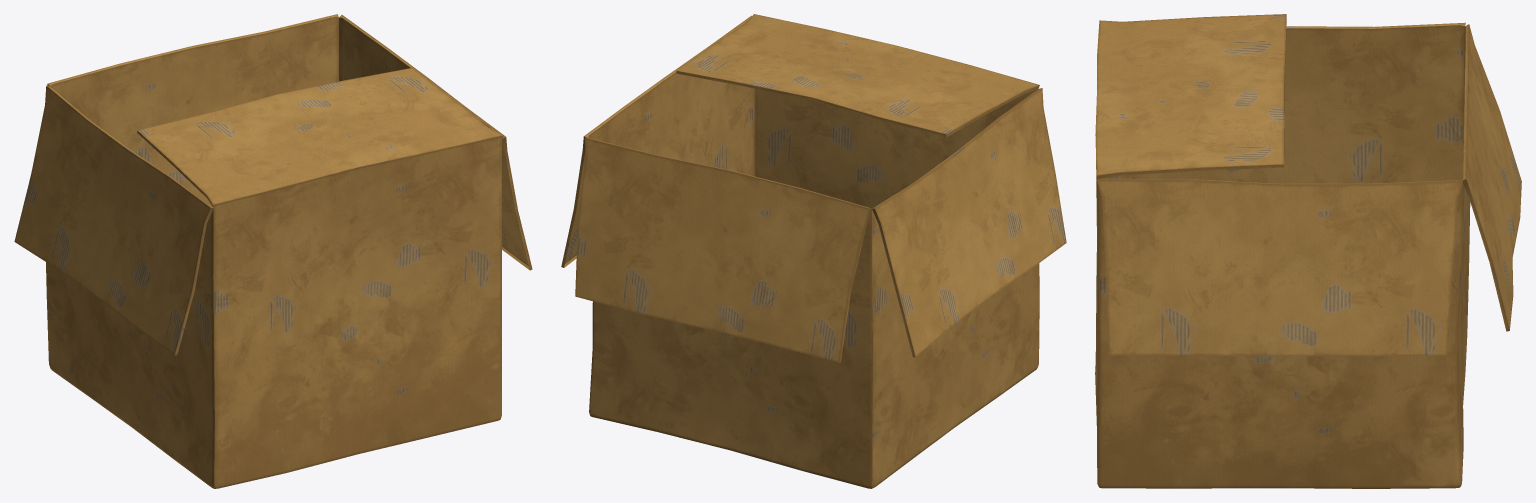
The model's file is cardboard_box.glb.
The picture shows the model from 3 angles, left to right: view 1: azimuth 30°, elevation 25°; view 2: azimuth 150°, elevation 25°; view 3: azimuth 270°, elevation 25°; orthographic projection. The views are drawn at different scales.
Parts seen in each view (by area): view 1: small_Cardboard_Box_1; view 2: small_Cardboard_Box_1; view 3: small_Cardboard_Box_1.
Part boxes in pixels (box(x1,y1,x2,y2)): small_Cardboard_Box_1: box(14, 14, 532, 488); small_Cardboard_Box_1: box(561, 14, 1066, 488); small_Cardboard_Box_1: box(1095, 14, 1521, 488).
Size of the model in its own units: 0.6437 by 0.5098 by 0.5975.
Materials: 1 (1 with a texture image).
